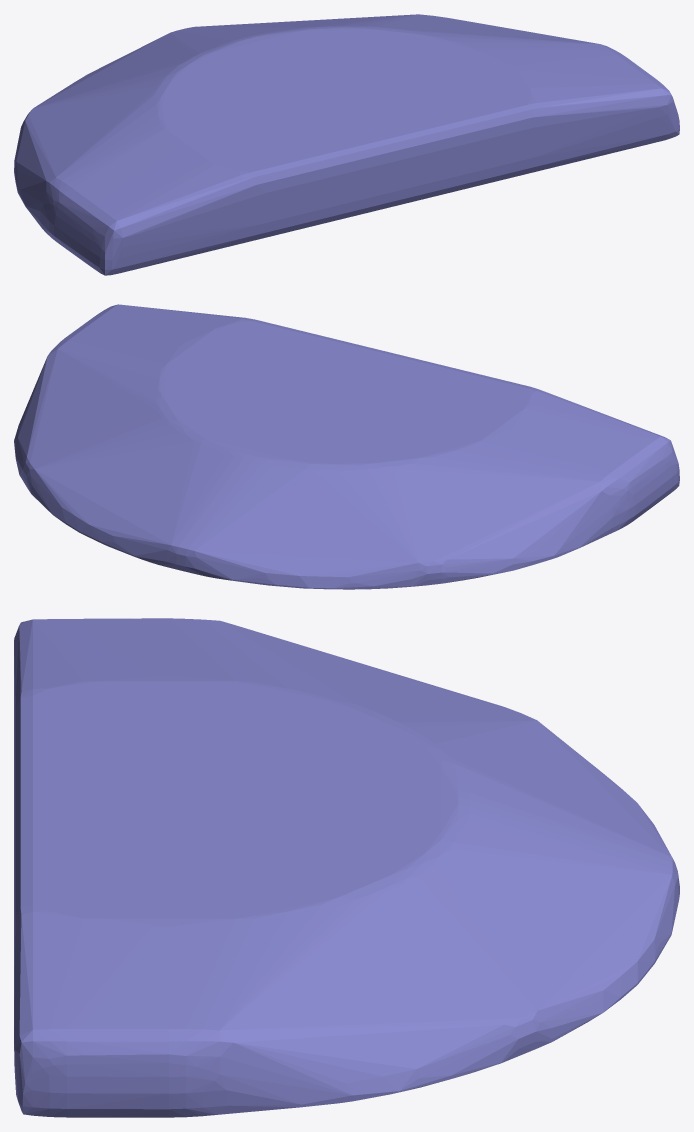
File: left_shoulder_yaw_link_part_12.obj
3 views of the same model, one above another, from view 1: azimuth 30°, elevation 25°; view 2: azimuth 150°, elevation 25°; view 3: azimuth 270°, elevation 25° (orthographic). The views are drawn at different scales.
Bounding box in the file's own units: 0.0984 × 0.0108 × 0.0632.
